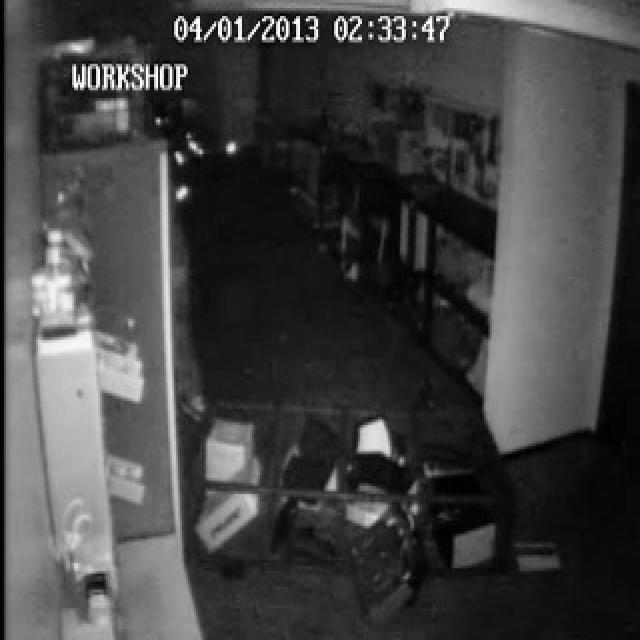burglary: (172, 380, 508, 602)
